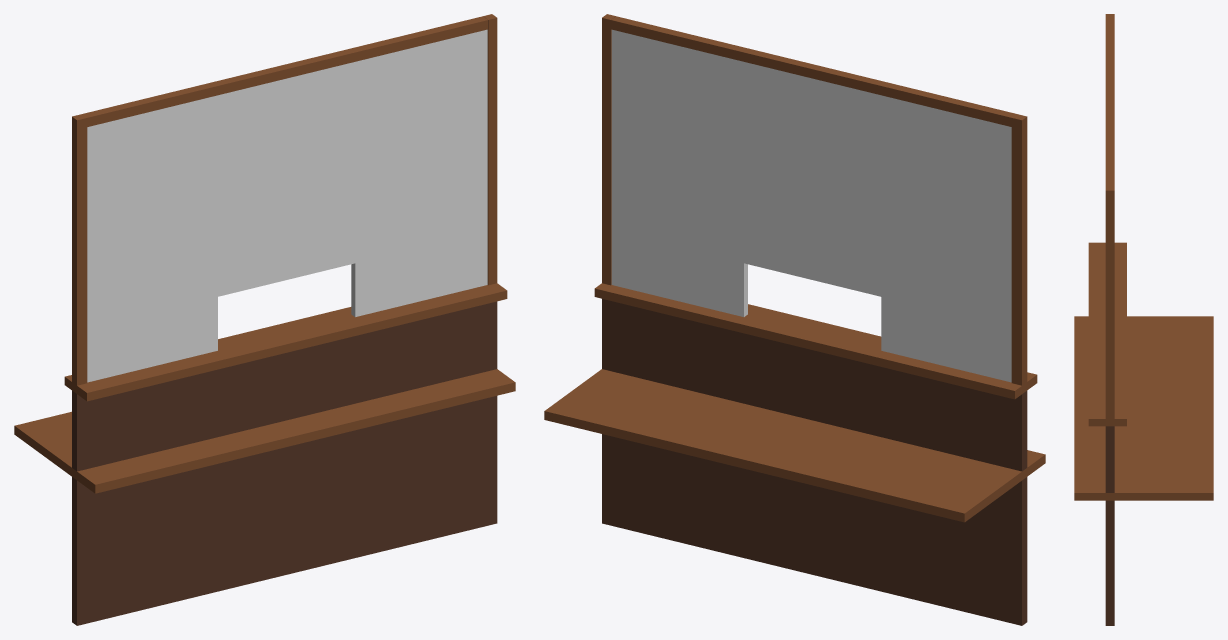
File: Counter.fbx
3 renders of one model, left to right at view 1: azimuth 30°, elevation 25°; view 2: azimuth 150°, elevation 25°; view 3: azimuth 270°, elevation 25°, orthographic. The views are drawn at different scales.
Visible parts, largest first — view 1: Cube, Glass; view 2: Cube, Glass; view 3: Cube.
Boxes of the visible parts, x1,y1,x2,y2 form: Cube: [14, 14, 515, 625]; Glass: [87, 29, 487, 382]; Cube: [544, 14, 1045, 625]; Glass: [611, 29, 1011, 382]; Cube: [1074, 14, 1213, 625].
Bounding box in the file's own units: 1156 × 385 × 1329.
